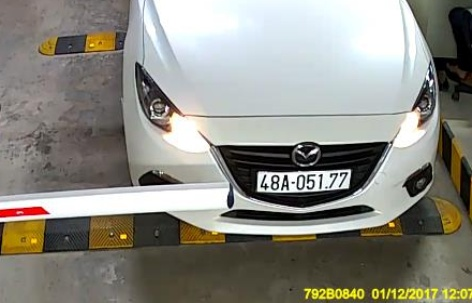plate: (250, 165, 357, 202)
